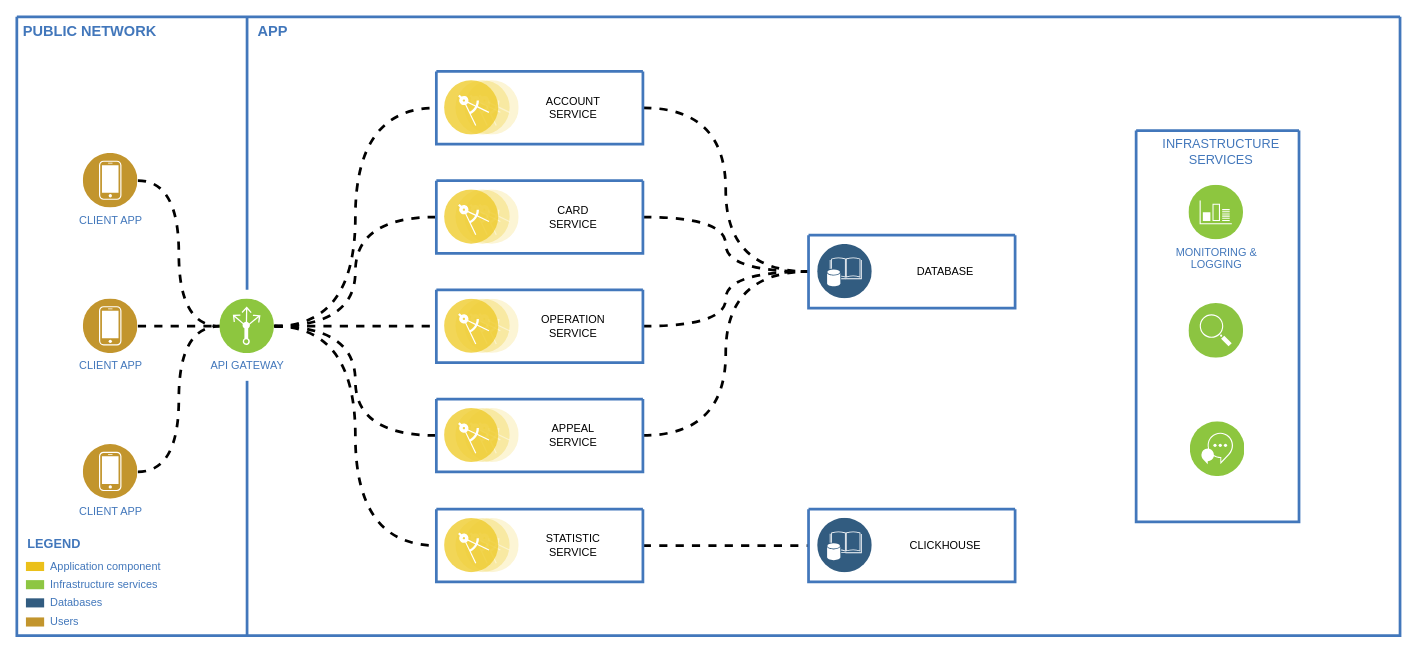
Image size: 1417x652. Some labels were removed from this diagram. The shapes that lost their labels are listed below. From the top down, each one's box as (x1, y1, x2, y2) in pixels, then its label:
(1188, 303, 1243, 358): GRAFFANA
(1190, 421, 1244, 476): ELK
